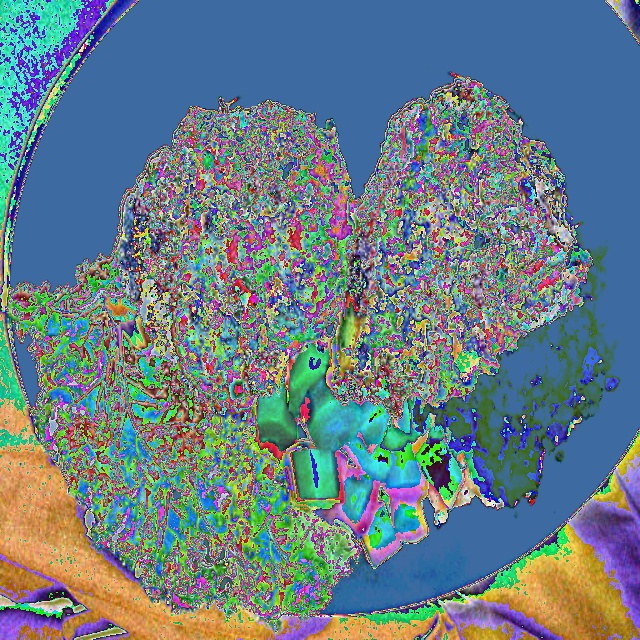background: (4, 79, 623, 634)
